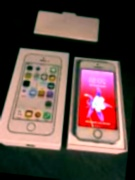iphone: (10, 58, 59, 140)
